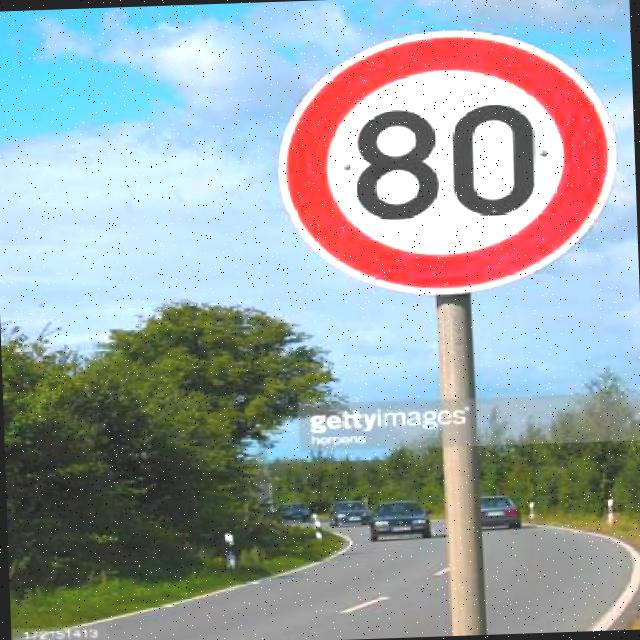Ograniczenie predkosci do 80: (314, 62, 590, 274)
